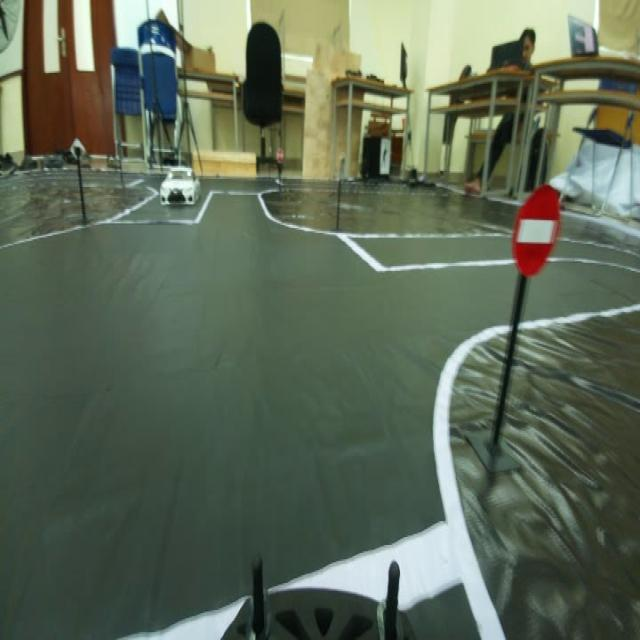no_entry: (506, 166, 554, 278)
